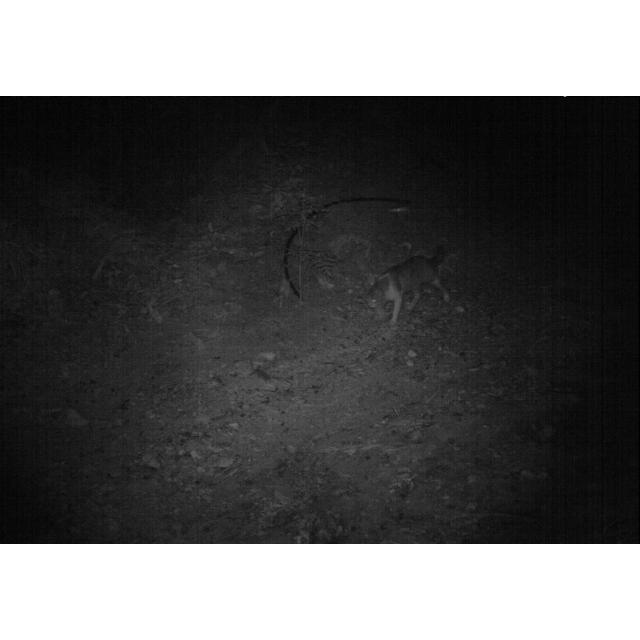animals: (366, 248, 452, 328)
